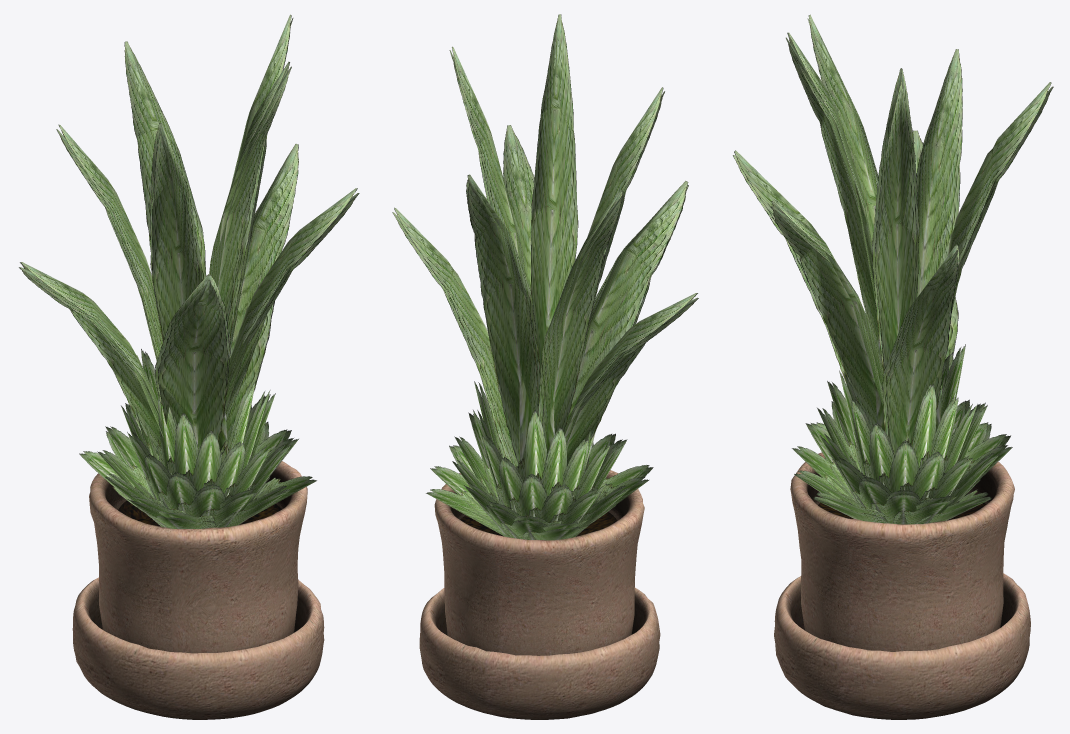
The model's file is Low-Poly Plant_.fbx.
3 views of the same model, side by side, from view 1: azimuth 30°, elevation 25°; view 2: azimuth 150°, elevation 25°; view 3: azimuth 270°, elevation 25° (orthographic). The views are drawn at different scales.
Visible parts, largest first — view 1: Low-Poly Plant_.001, Low-Poly Plant_; view 2: Low-Poly Plant_.001, Low-Poly Plant_; view 3: Low-Poly Plant_.001, Low-Poly Plant_.
Part boxes in pixels (x1=…): Low-Poly Plant_.001: x1=19, y1=14, x2=359, y2=528; Low-Poly Plant_: x1=72, y1=461, x2=324, y2=719; Low-Poly Plant_.001: x1=392, y1=14, x2=698, y2=540; Low-Poly Plant_: x1=419, y1=470, x2=660, y2=719; Low-Poly Plant_.001: x1=733, y1=14, x2=1053, y2=524; Low-Poly Plant_: x1=774, y1=452, x2=1030, y2=719.
Size of the model in its own units: 65.14 by 133 by 59.17.
